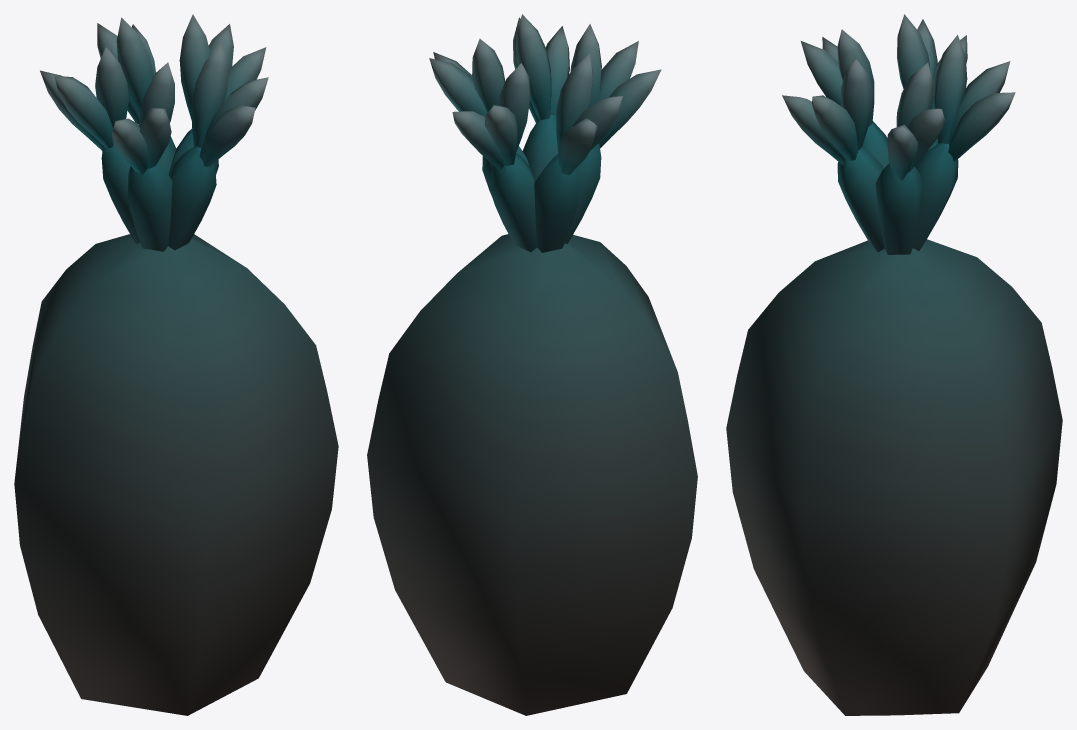
The model's file is plants-leafy-plants-leafy-bulb_v2.fbx.
3 renders of one model, left to right at view 1: azimuth 30°, elevation 25°; view 2: azimuth 150°, elevation 25°; view 3: azimuth 270°, elevation 25°, orthographic.
Parts seen in each view (by area): view 1: Leafy Bulb_v2; view 2: Leafy Bulb_v2; view 3: Leafy Bulb_v2.
Boxes of the visible parts, x1,y1,x2,y2 form: Leafy Bulb_v2: (14, 14, 338, 715); Leafy Bulb_v2: (367, 14, 697, 715); Leafy Bulb_v2: (726, 14, 1062, 715).
Bounding box in the file's own units: 0.1749 × 0.4 × 0.1805.
